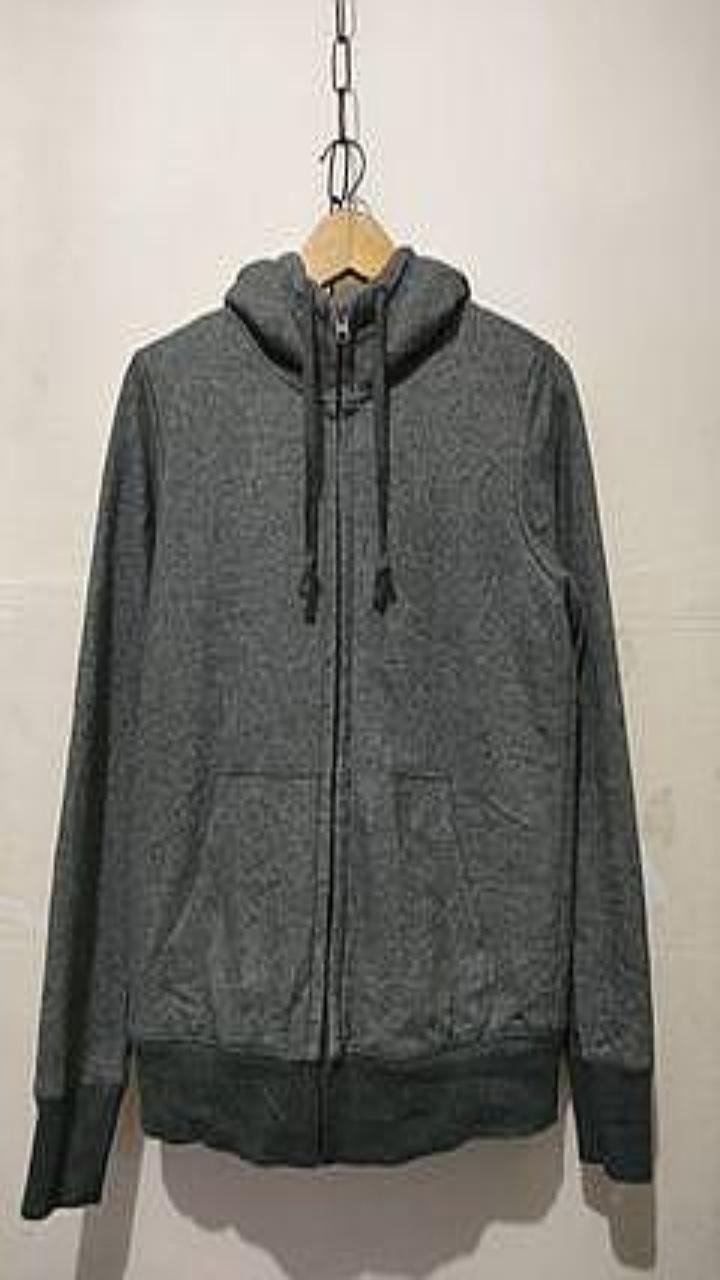Sports_Jacket: (21, 244, 652, 1217)
